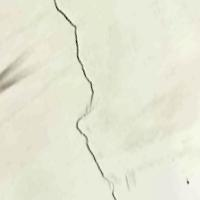crack: (46, 3, 131, 196)
